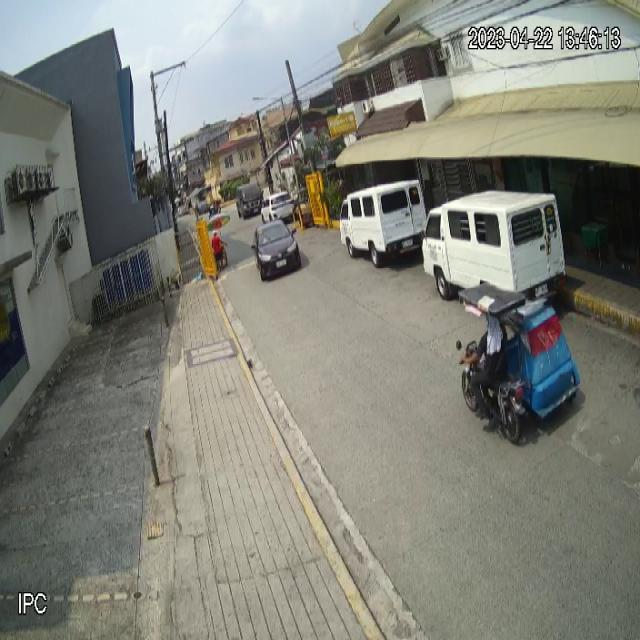Car: (250, 219, 302, 282)
Tricycle: (455, 280, 582, 444)
Van: (421, 188, 567, 320), (339, 178, 426, 268)
